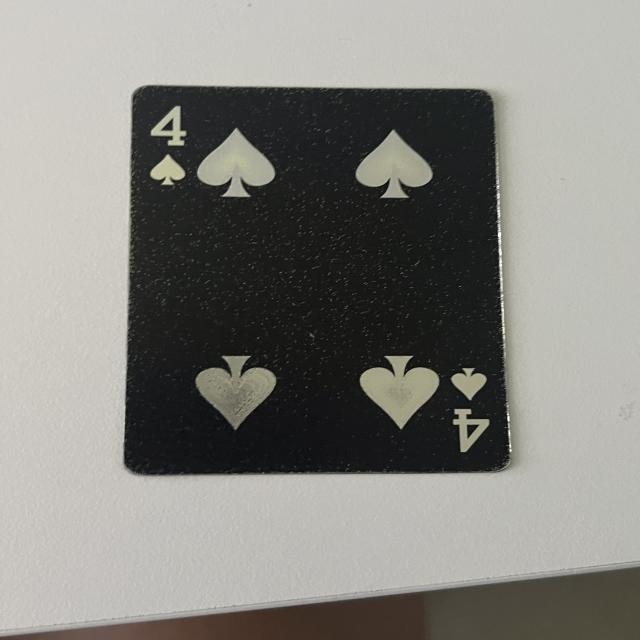4S: (444, 360, 493, 456), (145, 105, 194, 188)
